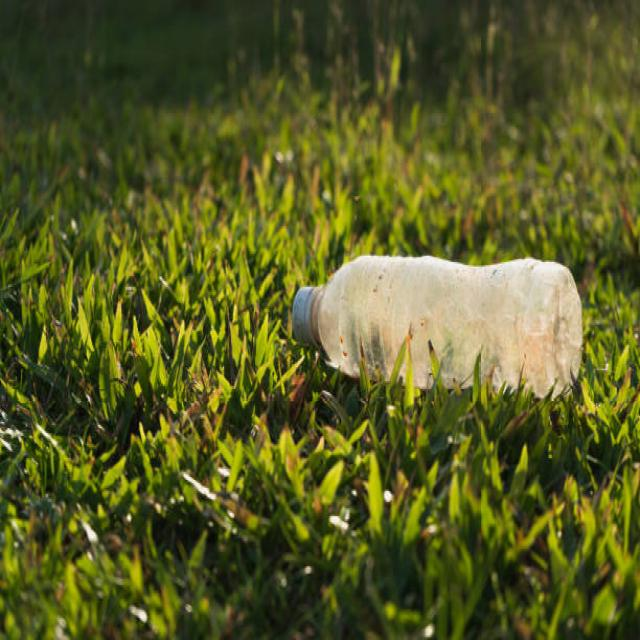plastic: (300, 262, 574, 372)
